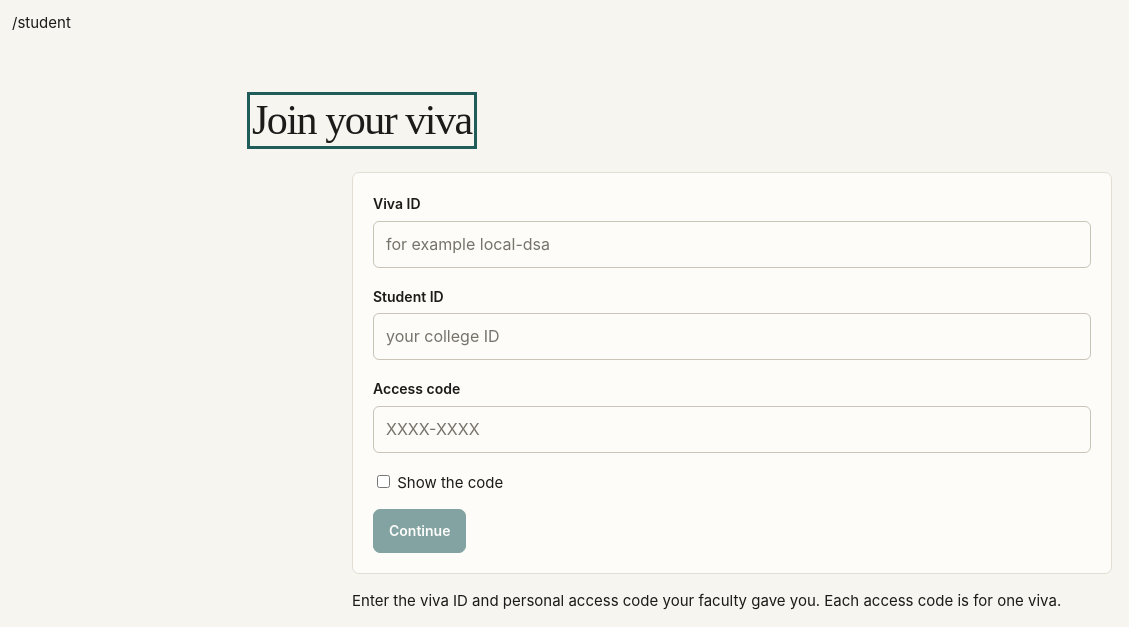
student screens: coverage part A › shows the server rules as separate paragraphs with the viva title and duration
Type "v1" into the field labelled "Viva ID" at (732, 244), box [373, 221, 1091, 268]
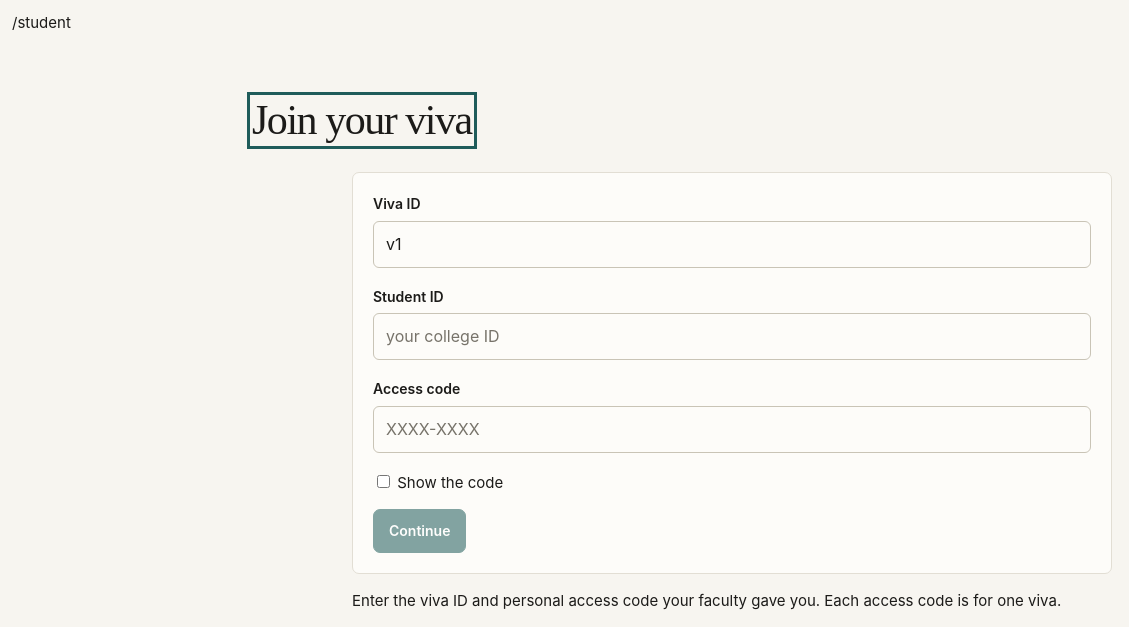
Type "S1" into the field labelled "Student ID" at (732, 337), box [373, 314, 1091, 360]
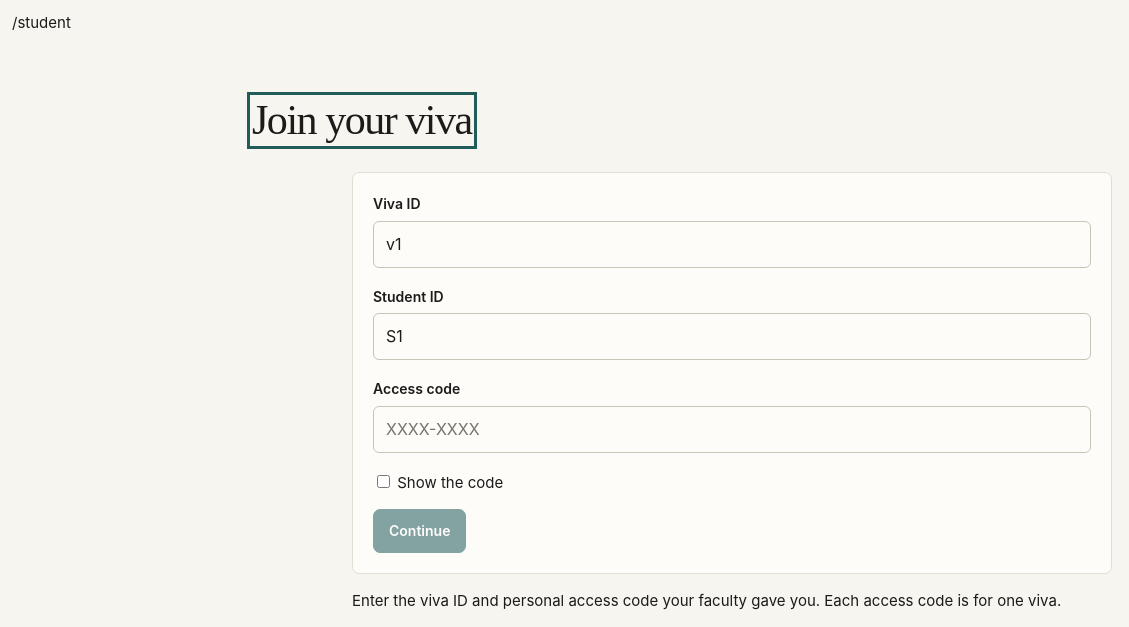
Type "AAAA-1111" into the password field labelled "Access code" at (732, 429), box [373, 406, 1091, 453]
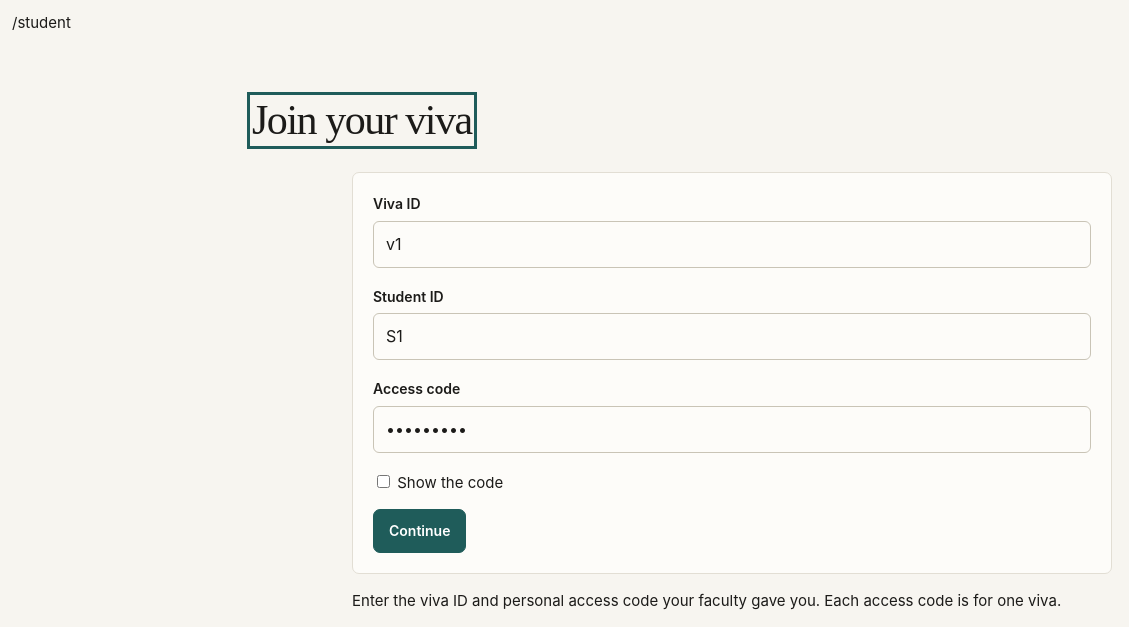
Click the button "Continue" at (420, 531), box [373, 509, 466, 553]
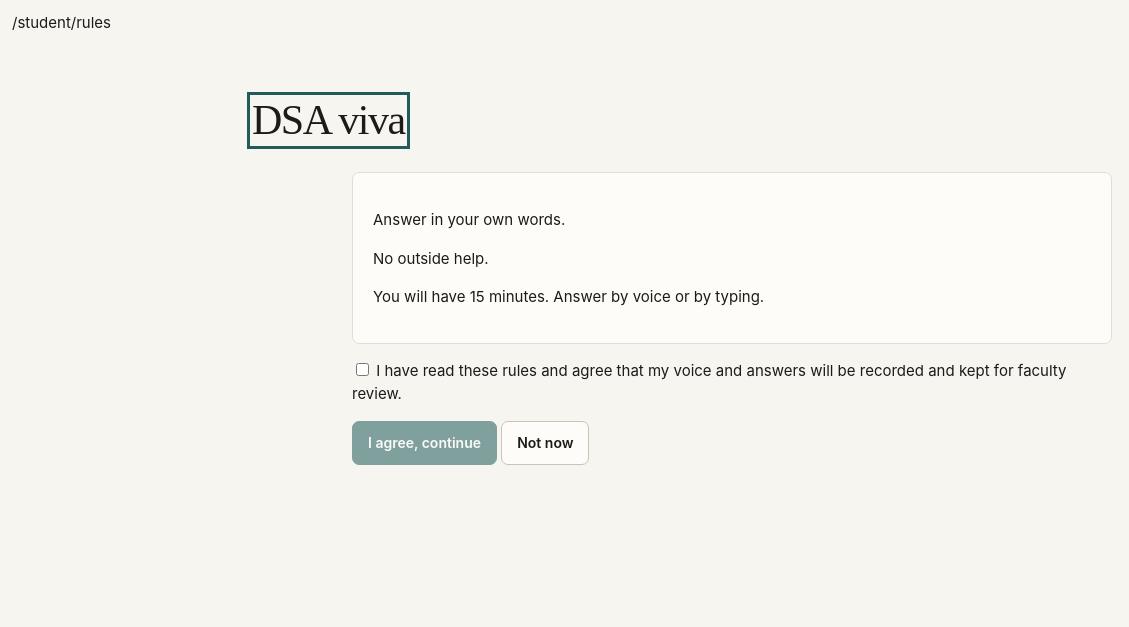
Expected: the heading "DSA viva" is shown, [252, 97, 405, 144]
Expected: the text "Answer in your own words." is shown, [373, 210, 565, 229]
Expected: the text "No outside help." is shown, [373, 248, 489, 268]
